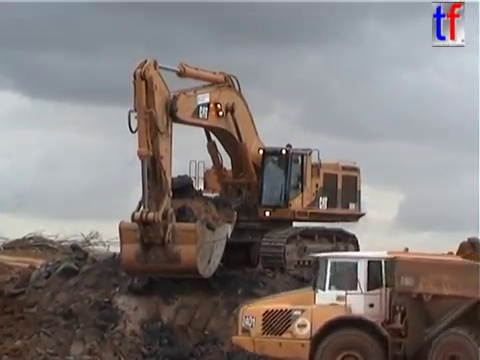excavator: (114, 55, 369, 285), (228, 245, 480, 360)
